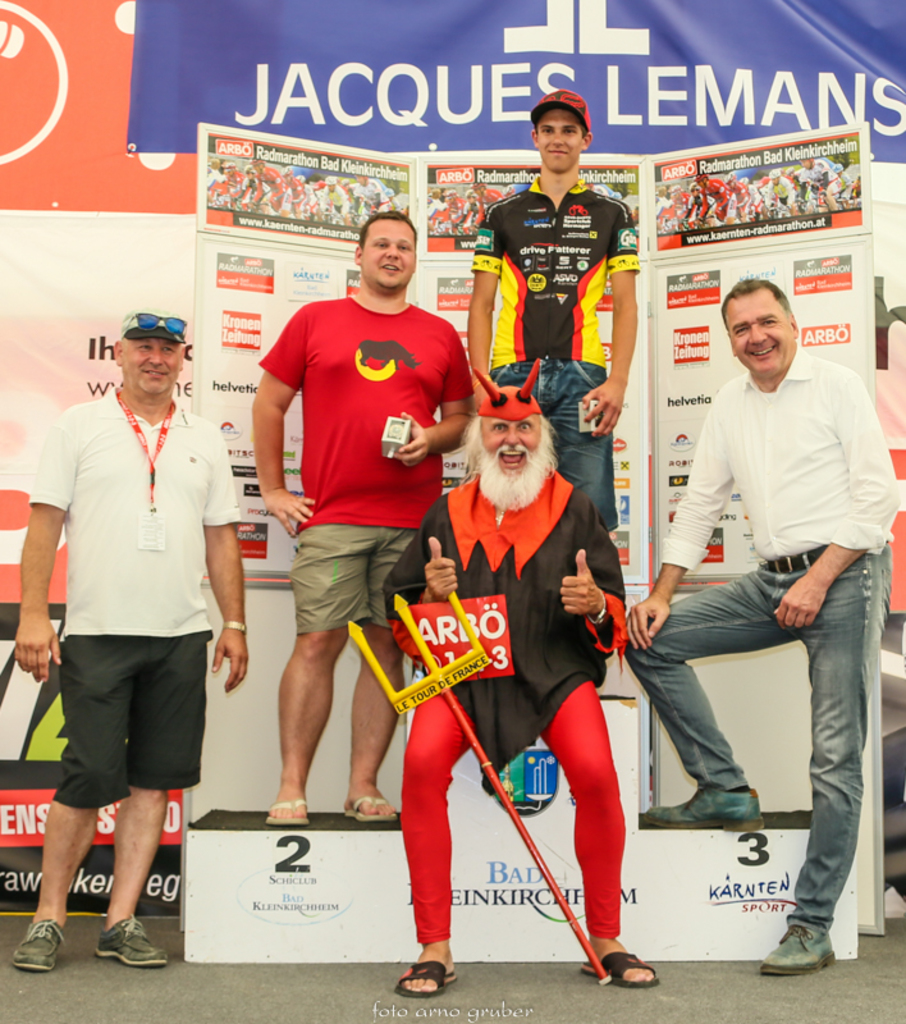Person: (10, 88, 900, 997)
